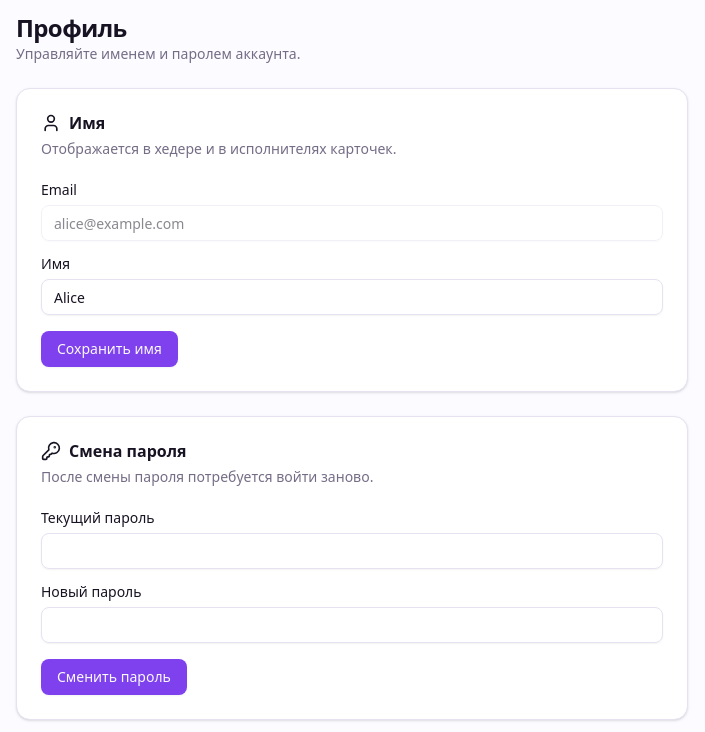
ProfilePage › saves the new name and shows a confirmation
The image size is (705, 732).
Type "Alicia" into the field labelled "Имя". click: {"x": 352, "y": 297}
box: [41, 279, 663, 315]
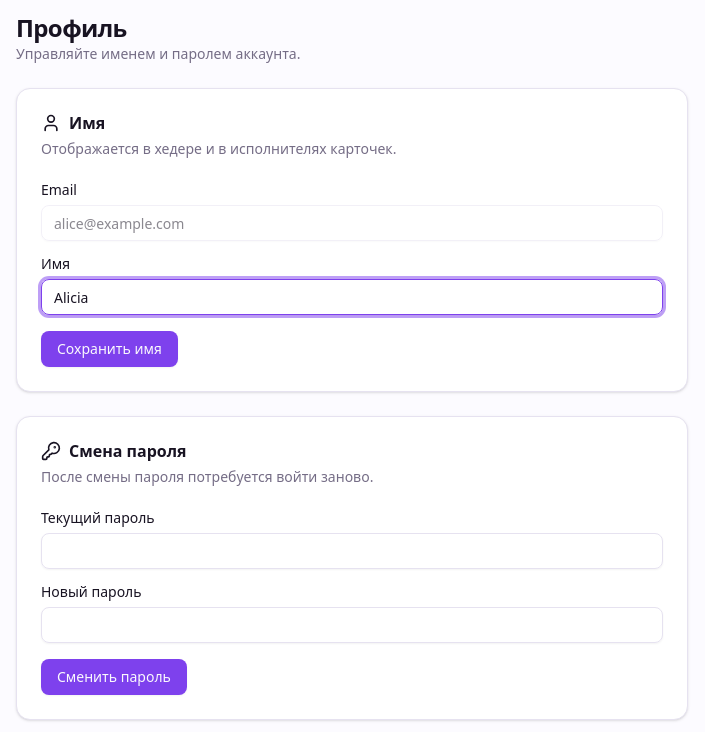
Click the button "Сохранить имя". click: {"x": 109, "y": 349}
box: [41, 331, 178, 367]
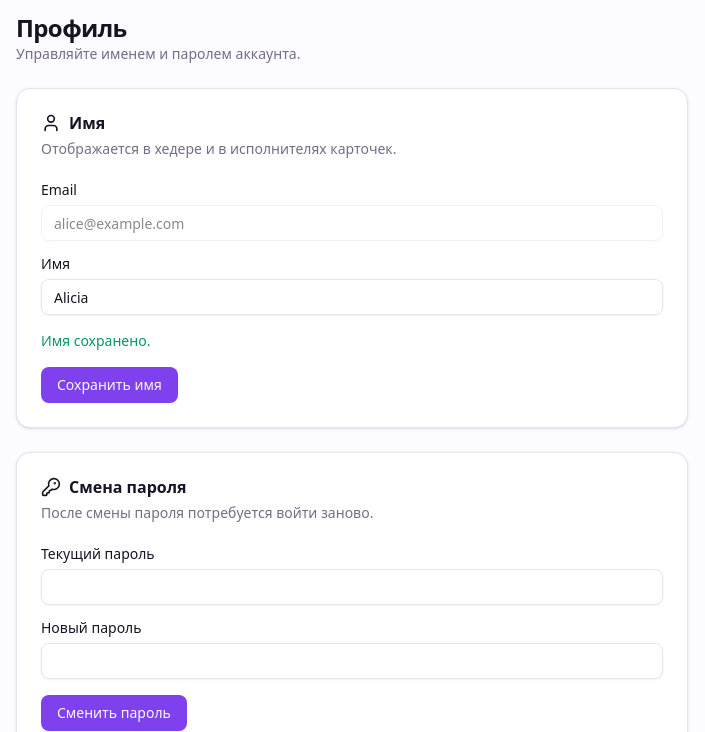
Now the message reads "Имя сохранено.", box [41, 331, 150, 350]
